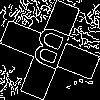B: (25, 25, 73, 80)
